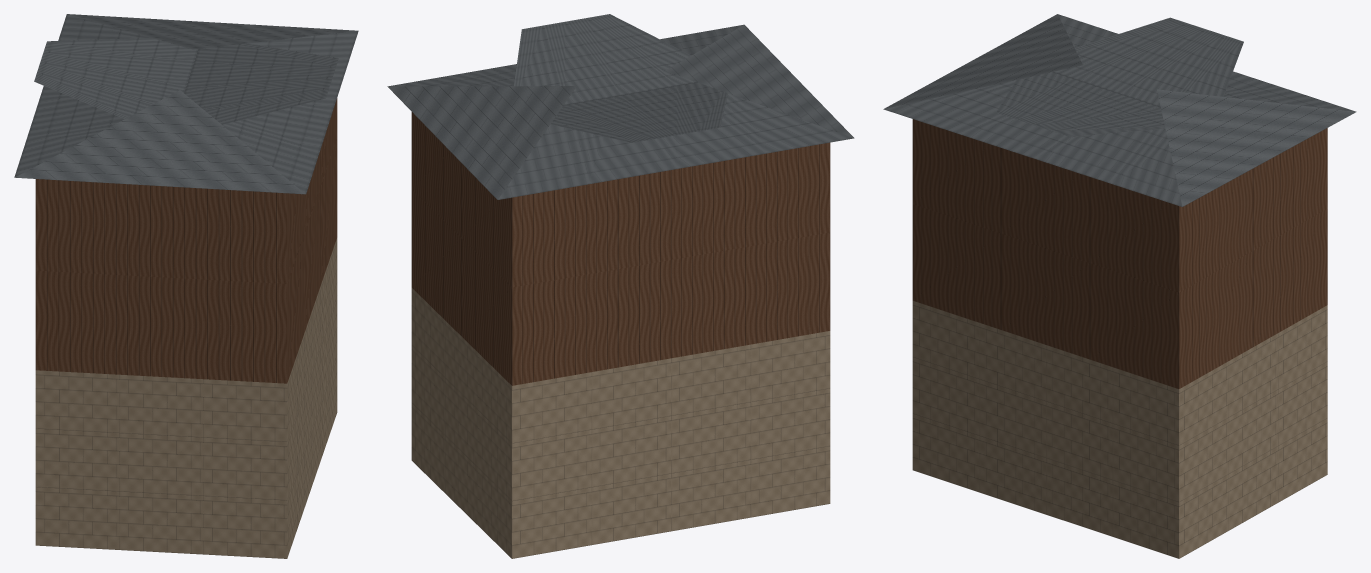
Rendered from bld_c2_30_543.gltf.
The picture shows the model from 3 angles, left to right: view 1: azimuth 30°, elevation 25°; view 2: azimuth 150°, elevation 25°; view 3: azimuth 270°, elevation 25°; orthographic projection. The views are drawn at different scales.
Parts seen in each view (by area): view 1: bld_c2_30_543; view 2: bld_c2_30_543; view 3: bld_c2_30_543.
Boxes of the visible parts, <box> form: bld_c2_30_543: <box>14,14,358,558</box>; bld_c2_30_543: <box>387,14,854,558</box>; bld_c2_30_543: <box>883,14,1356,558</box>.
Bounding box in the file's own units: 12.45 × 11.9 × 12.9.
Materials: 3 (3 with a texture image).
